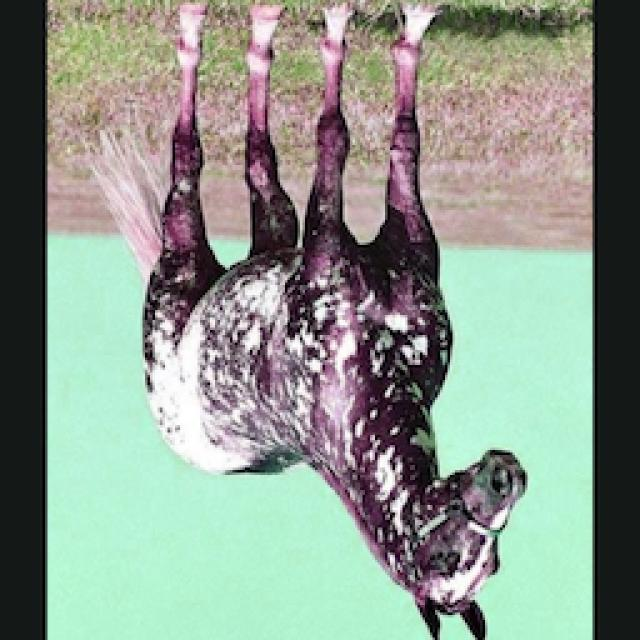Horse: (90, 2, 538, 640)
